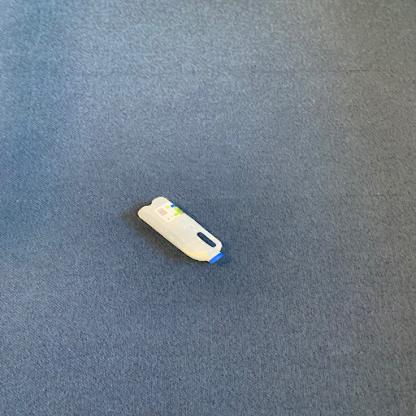trash: (136, 197, 226, 268)
